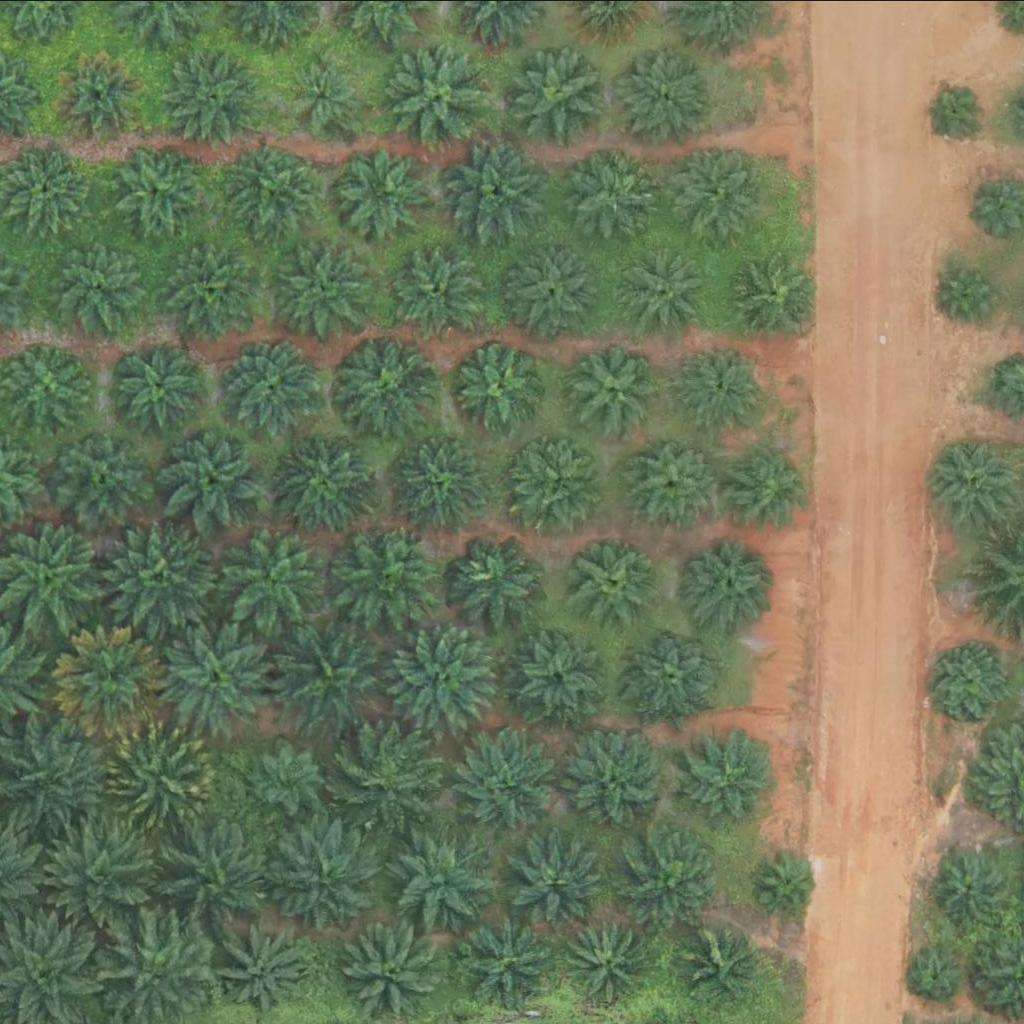Kelapa_Sawit: (394, 621, 508, 734), (222, 519, 335, 632), (55, 623, 168, 736), (104, 721, 217, 834), (156, 621, 269, 734), (274, 624, 387, 737), (161, 821, 275, 933), (264, 817, 378, 929), (104, 521, 217, 633), (48, 824, 161, 936), (389, 39, 490, 139), (109, 139, 210, 239), (225, 138, 326, 238), (449, 140, 550, 240), (45, 233, 146, 333), (162, 236, 263, 336), (271, 237, 372, 337), (388, 238, 489, 338), (504, 240, 605, 340), (222, 337, 323, 437), (335, 332, 436, 432), (53, 427, 154, 527), (162, 429, 263, 529), (278, 431, 379, 531), (388, 429, 489, 529), (332, 521, 433, 621), (393, 830, 494, 930), (342, 921, 443, 1021), (454, 913, 555, 1013), (621, 826, 722, 926), (566, 732, 667, 832), (676, 727, 777, 827), (662, 143, 763, 243), (510, 41, 611, 141), (614, 43, 715, 143), (163, 44, 263, 144), (444, 532, 544, 632), (337, 725, 437, 825), (458, 732, 558, 832), (625, 621, 725, 721), (676, 529, 776, 629), (622, 427, 722, 527), (1, 142, 89, 230), (459, 342, 547, 430), (517, 636, 605, 724), (567, 915, 655, 1003), (572, 342, 660, 430), (678, 340, 766, 428), (618, 244, 706, 332), (728, 247, 816, 335), (55, 51, 143, 138), (337, 148, 425, 235), (4, 343, 92, 430), (119, 340, 207, 427), (518, 437, 606, 524), (519, 836, 607, 923), (220, 924, 308, 1011), (568, 534, 656, 621), (725, 440, 813, 527), (565, 141, 653, 228), (291, 57, 367, 132), (248, 741, 324, 816), (931, 640, 1007, 715), (685, 921, 760, 996), (934, 849, 1009, 924), (758, 854, 821, 917), (923, 81, 986, 144), (939, 262, 1002, 324), (913, 949, 963, 999)
